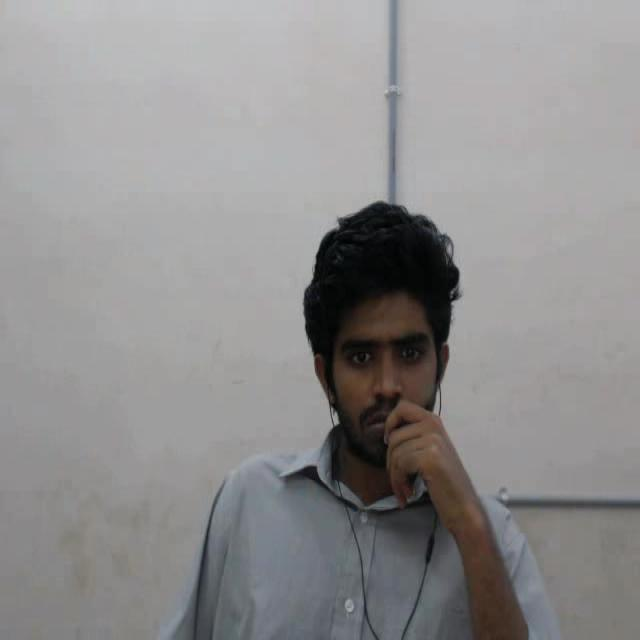Bored: (286, 174, 487, 505)
